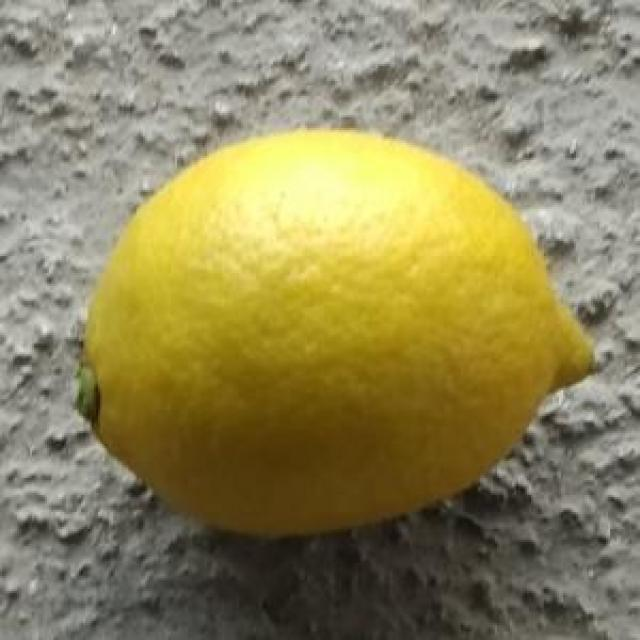lemon: (69, 124, 596, 536)
